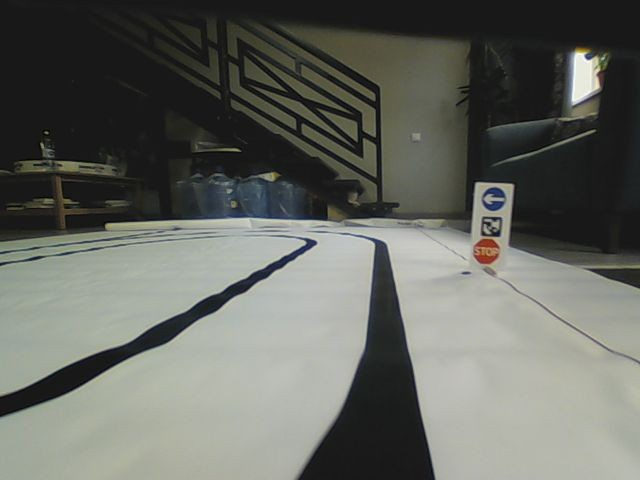Stop: (472, 240, 502, 263)
